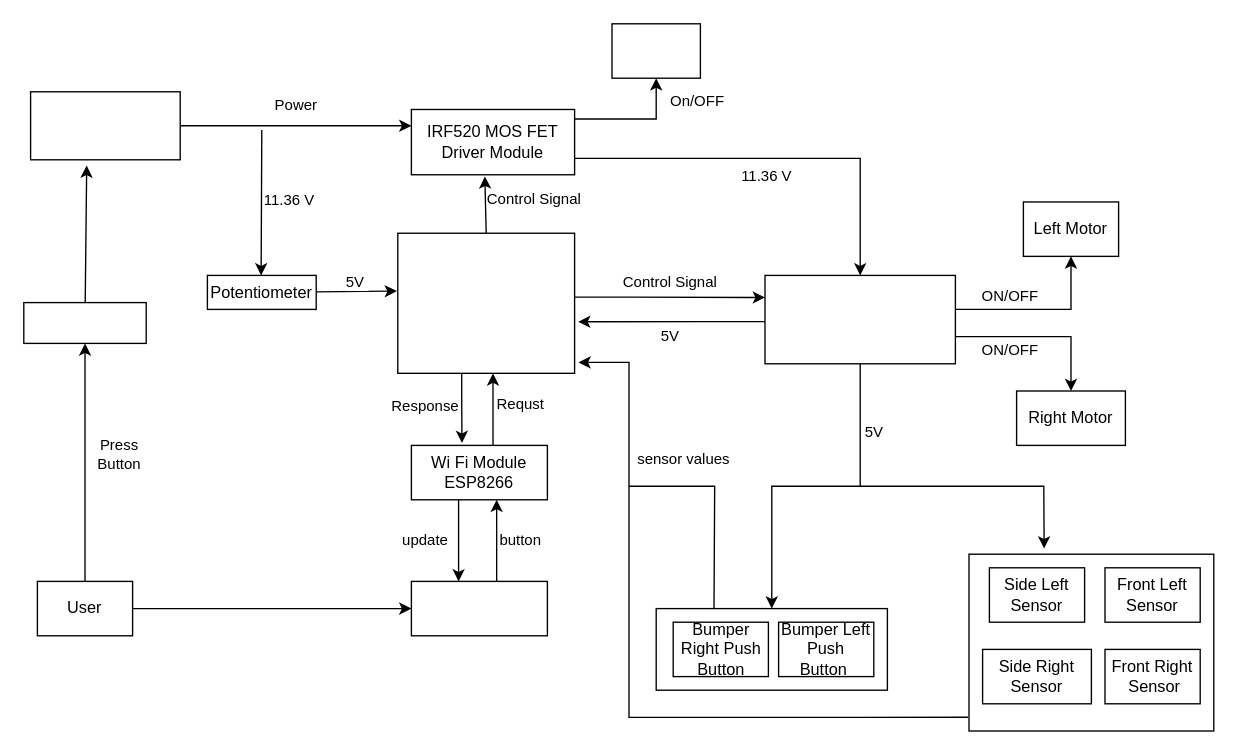
Some shapes in this 1238 by 755 pixel diagram are drawn without their labels. Each missing label, with the box of its shape:
12V 3S 30C LiPo Battery: (29, 90, 180, 160)
Android App (Blynk): (410, 580, 547, 636)
Arduino UNO: (396, 232, 575, 373)
Fan Blower: (611, 22, 700, 78)
H-bridge L298 Dual Motor Driver: (764, 274, 955, 364)
Switch: (22, 301, 146, 343)
